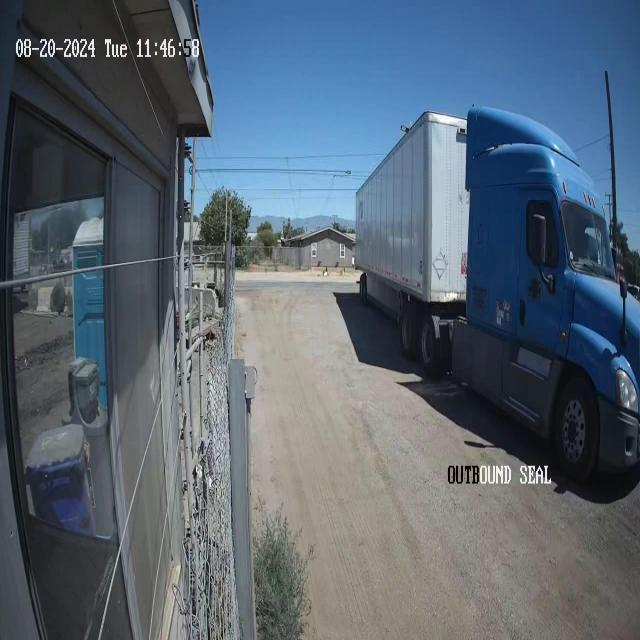TRUCK_IN: (353, 102, 639, 486)
